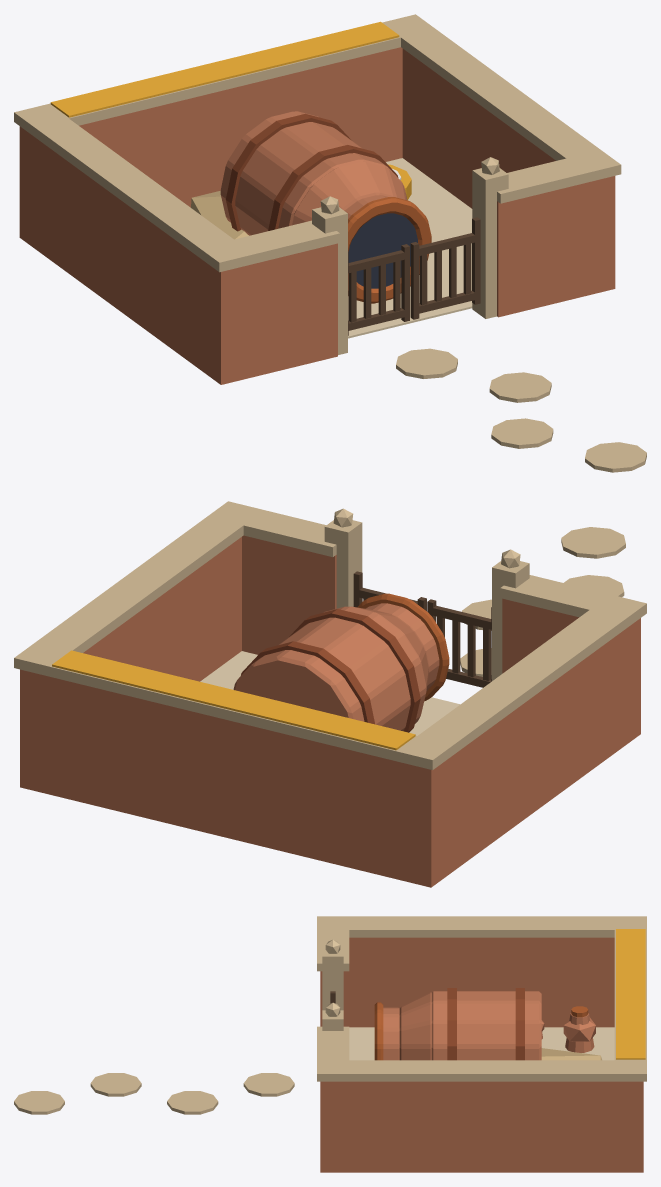
Rendered from CatCafe_Nook_Desert.glb.
The picture shows the model from 3 angles, top to bottom: view 1: azimuth 30°, elevation 25°; view 2: azimuth 150°, elevation 25°; view 3: azimuth 270°, elevation 25°; orthographic projection. The views are drawn at different scales.
Parts seen in each view (by area): view 1: CatCafe_Nook_Desert, CatCafe_Nook_Desert_Trap, CatCafe_Nook_Desert_Decor, CatCafe_Nook_Desert_GateL, CatCafe_Nook_Desert_GateR; view 2: CatCafe_Nook_Desert, CatCafe_Nook_Desert_Trap, CatCafe_Nook_Desert_Decor, CatCafe_Nook_Desert_GateR, CatCafe_Nook_Desert_GateL; view 3: CatCafe_Nook_Desert, CatCafe_Nook_Desert_Trap, CatCafe_Nook_Desert_Decor.
Boxes of the visible parts, x1,y1,x2,y2 form: CatCafe_Nook_Desert: (14, 14, 621, 384); CatCafe_Nook_Desert_Trap: (191, 111, 431, 303); CatCafe_Nook_Desert_Decor: (348, 158, 646, 472); CatCafe_Nook_Desert_GateL: (410, 217, 480, 319); CatCafe_Nook_Desert_GateR: (348, 244, 409, 335); CatCafe_Nook_Desert: (14, 501, 646, 887); CatCafe_Nook_Desert_Trap: (233, 593, 449, 732); CatCafe_Nook_Desert_Decor: (200, 527, 625, 735); CatCafe_Nook_Desert_GateR: (427, 599, 491, 687); CatCafe_Nook_Desert_GateL: (353, 571, 426, 610); CatCafe_Nook_Desert: (317, 916, 646, 1172); CatCafe_Nook_Desert_Trap: (374, 988, 601, 1060); CatCafe_Nook_Desert_Decor: (14, 1027, 614, 1114).
Size of the model in its own units: 8.76 by 4.02 by 14.88.
1 material, 1 textured.
